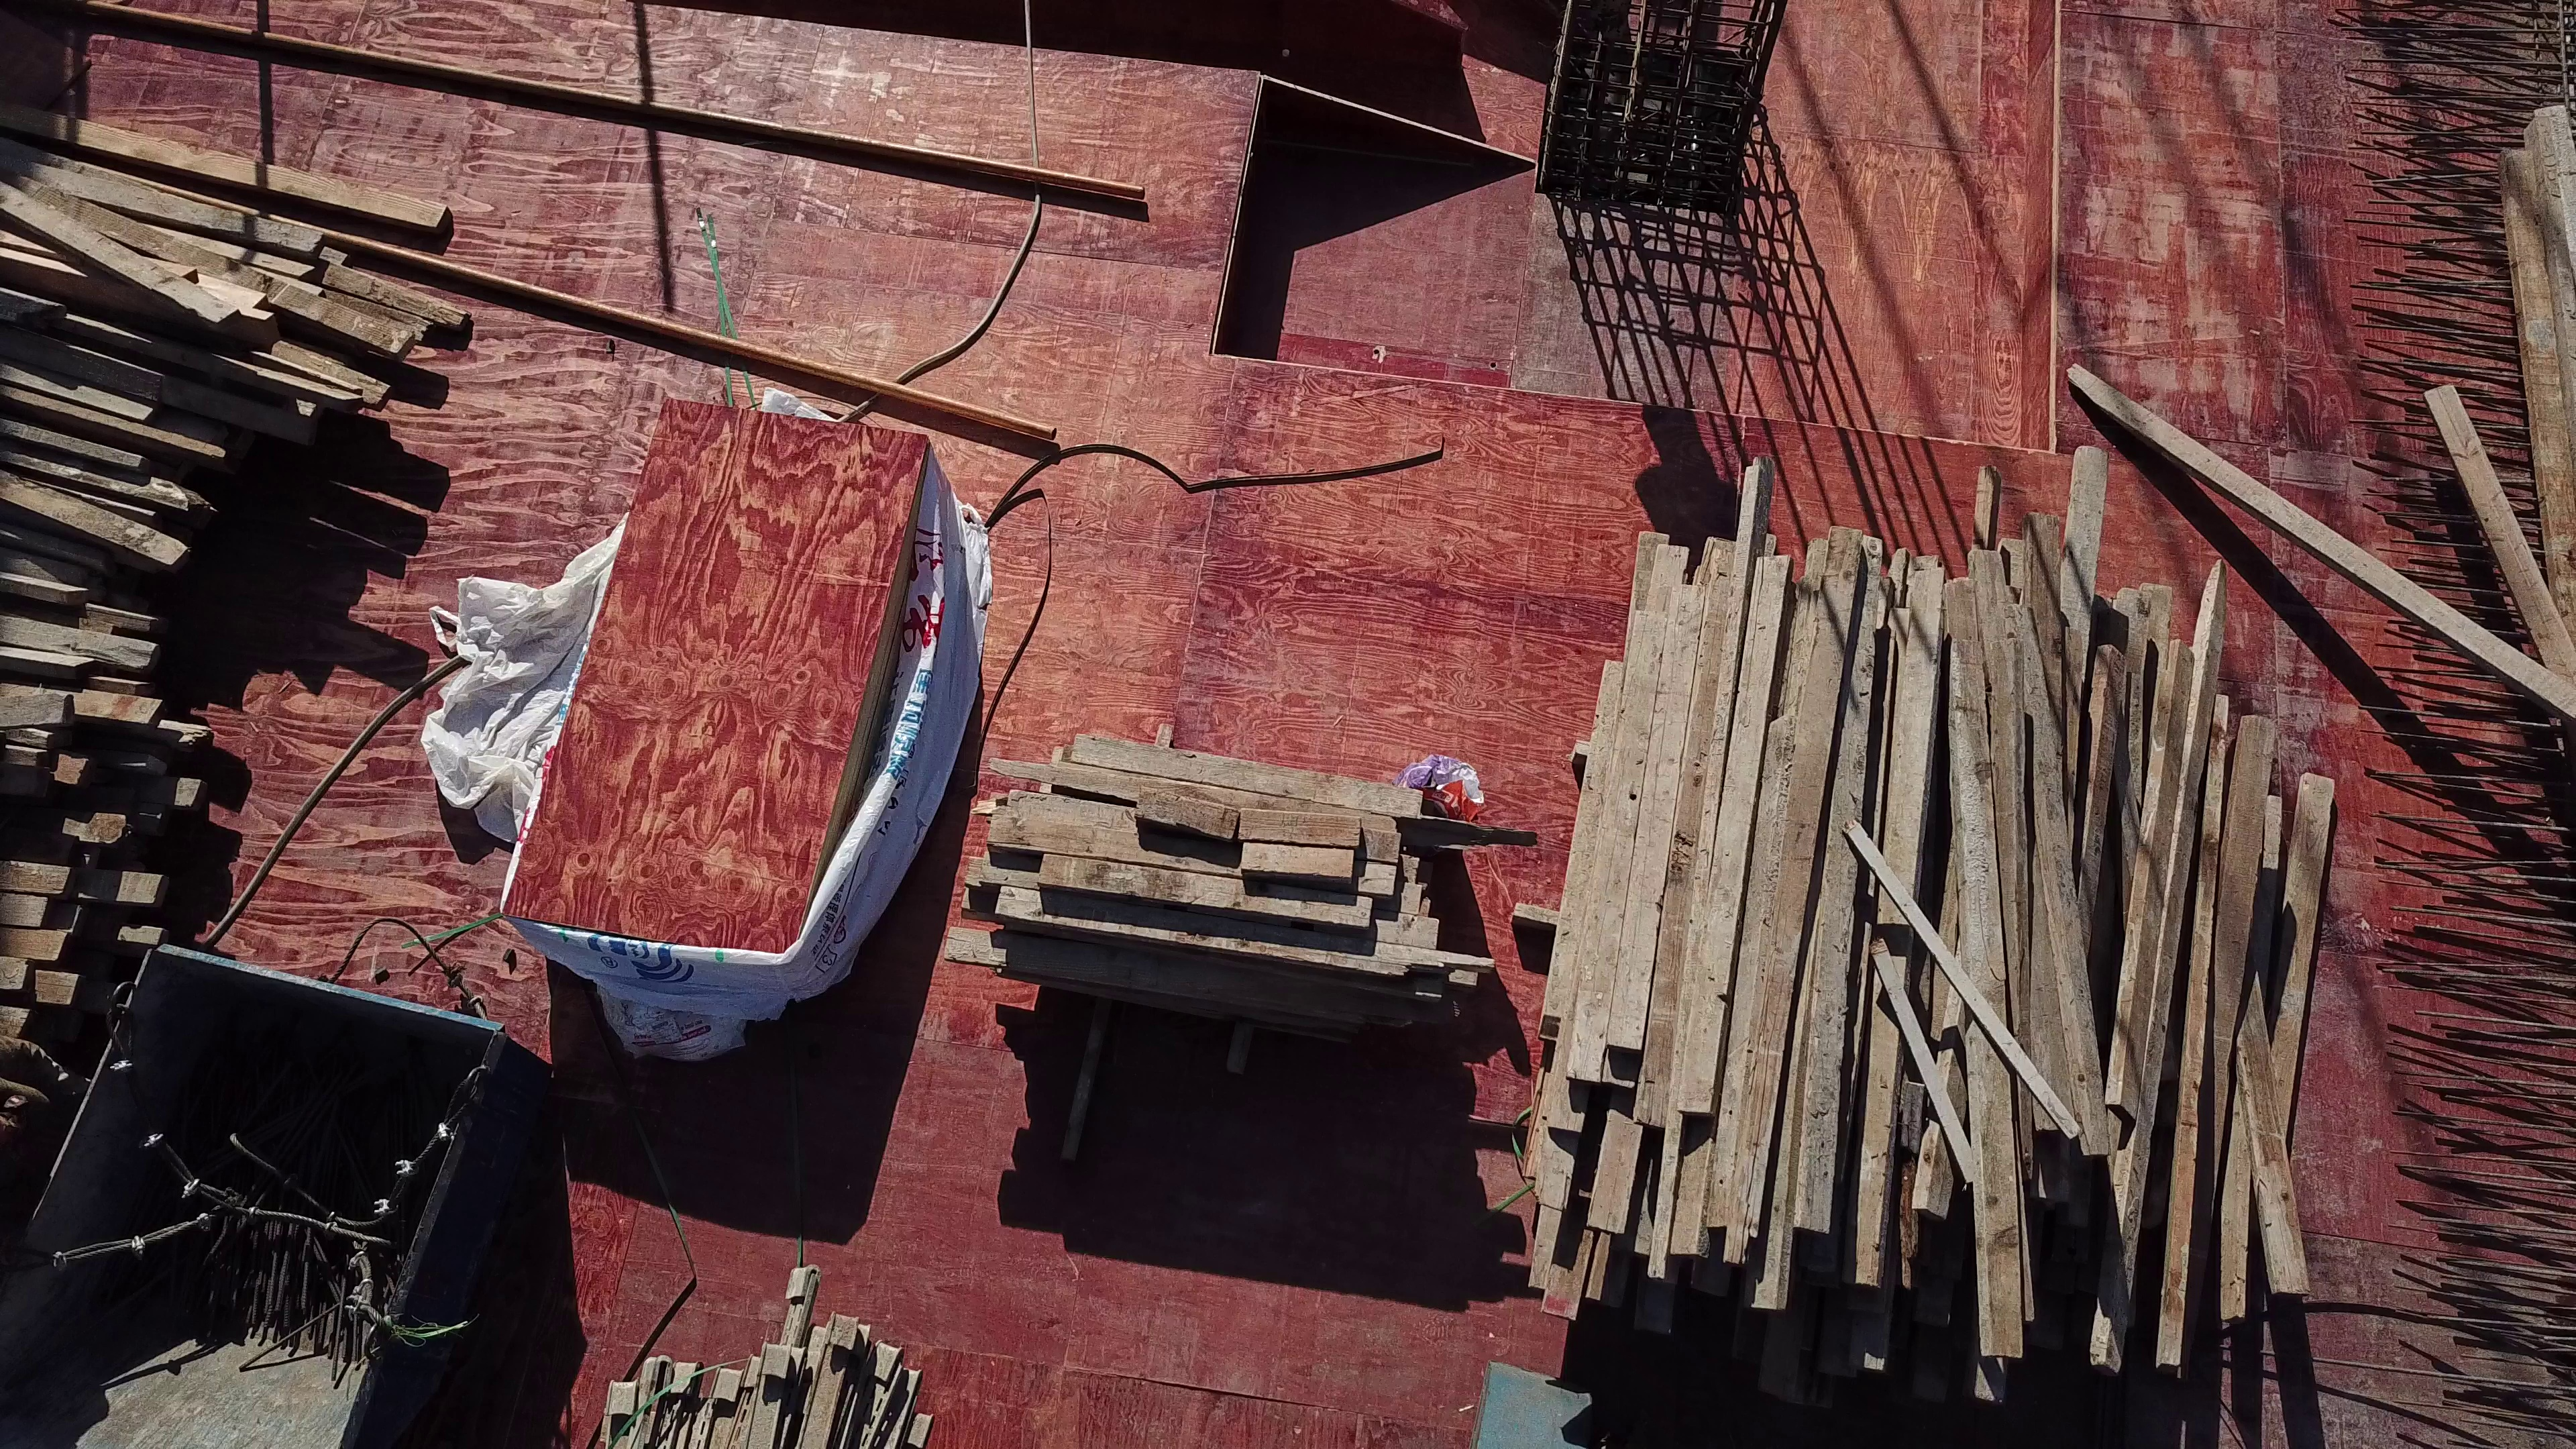board: (504, 395, 991, 1054)
hopper: (0, 943, 556, 1449)
rebar: (184, 1005, 412, 1357)
wood: (1520, 456, 2348, 1398), (0, 106, 451, 1134), (980, 736, 1488, 1042)
